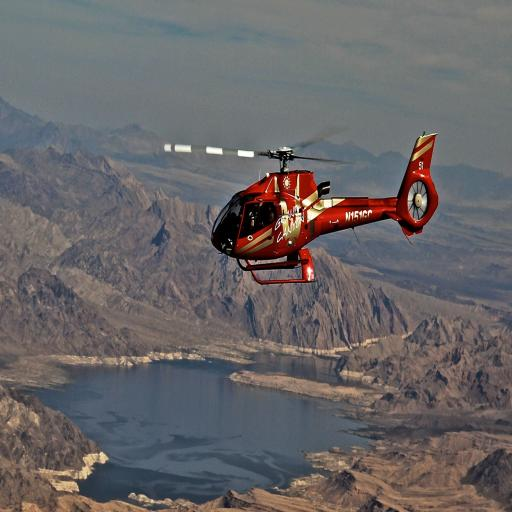helicopter: (161, 126, 446, 294)
